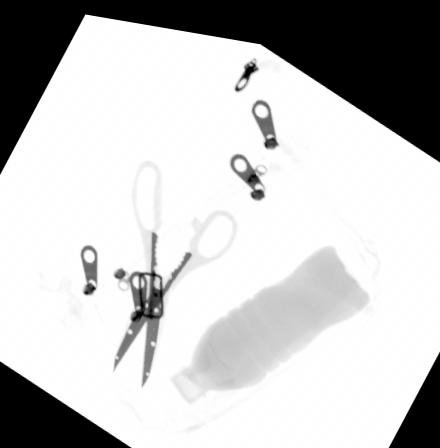Scissors: (111, 152, 239, 383)
